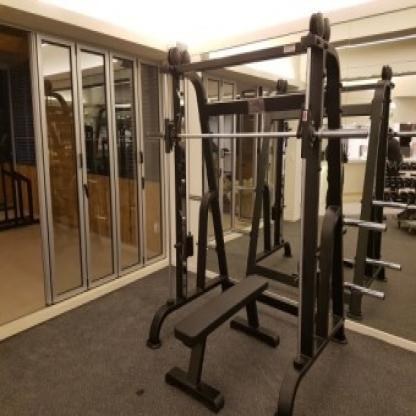smith machine: (146, 13, 349, 416)
